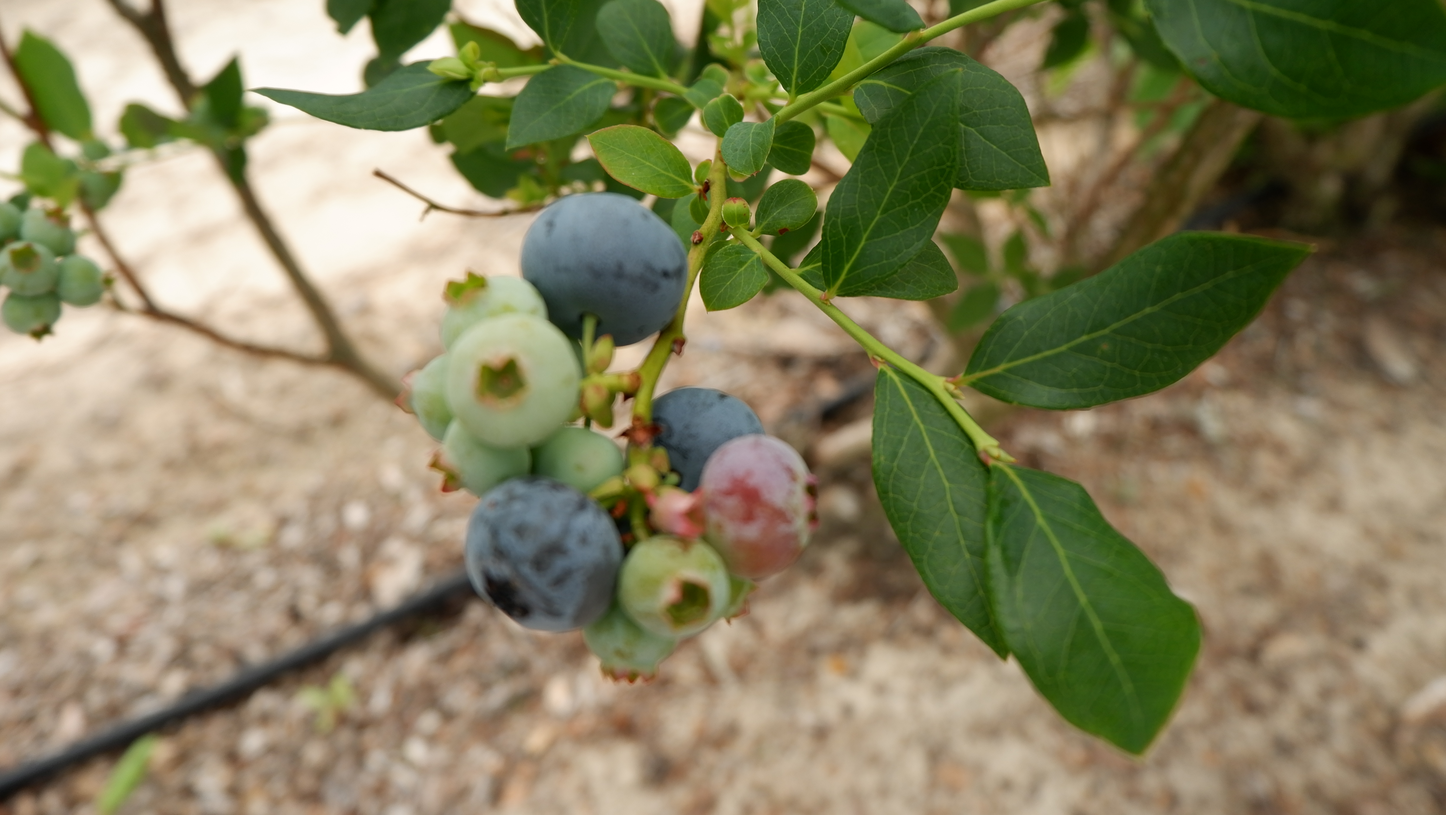Immature: (444, 313, 585, 449), (701, 433, 821, 580), (617, 533, 732, 640), (579, 590, 684, 684), (438, 269, 551, 353), (427, 415, 534, 496), (529, 425, 626, 493), (393, 351, 454, 439)
Mature: (464, 475, 626, 633), (519, 192, 685, 345), (653, 387, 766, 492)
